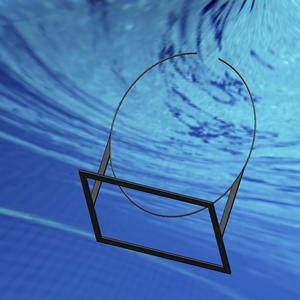circle: (77, 49, 259, 275), (107, 51, 255, 219)
